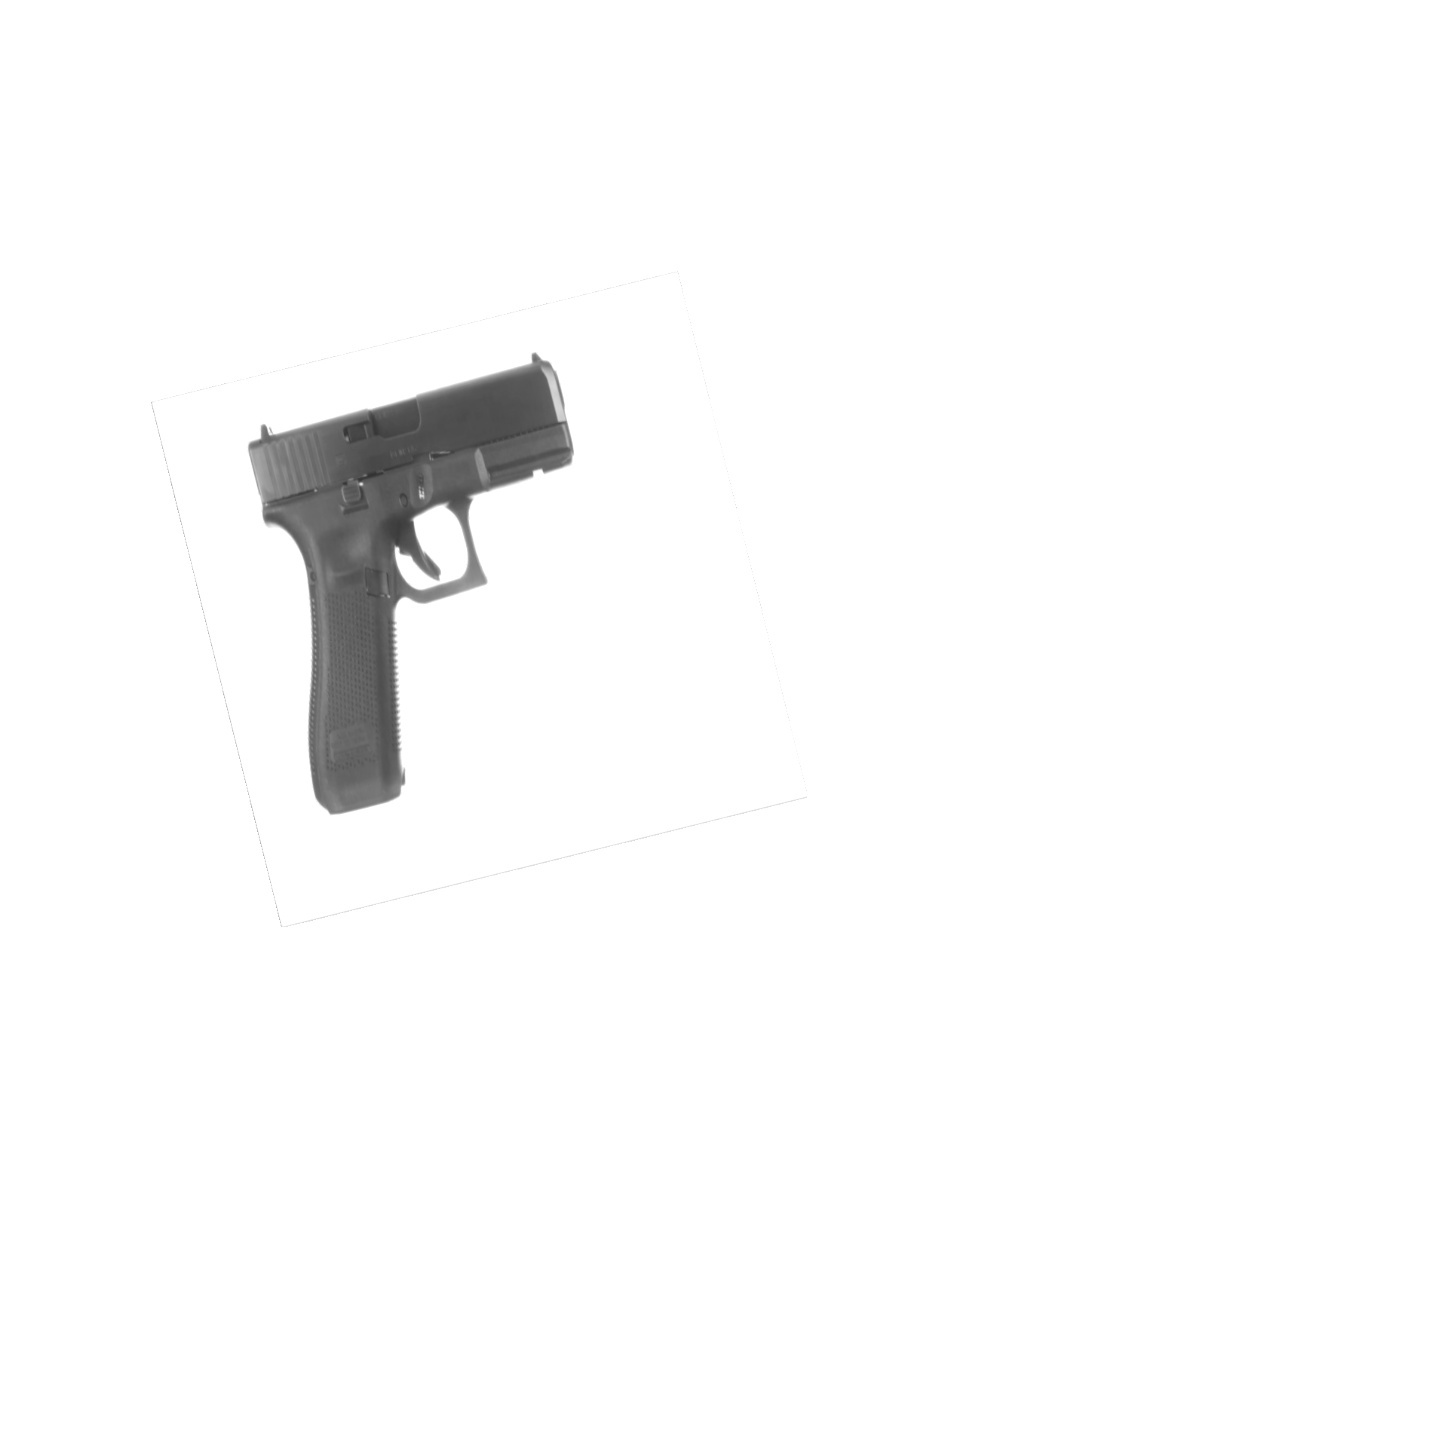gun: (228, 349, 585, 824)
